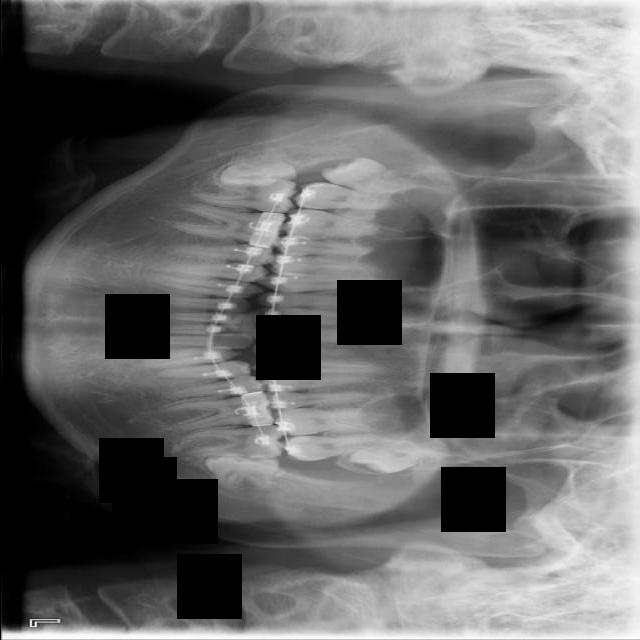3M ESPE Implant: (316, 148, 417, 203)
73: (40, 603, 52, 607)
BioHorizons Implant: (279, 435, 392, 461)
BioLife Implant: (343, 436, 426, 479)
Biomet 3i Implant: (202, 451, 279, 492)
Blue Sky Bio Implant: (184, 427, 283, 460)
Caries: (292, 181, 401, 209)
Implant: (195, 168, 298, 217)
Keystone Dental Implant: (217, 145, 296, 189)
